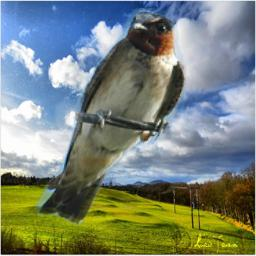Swallow: (34, 8, 186, 225)
